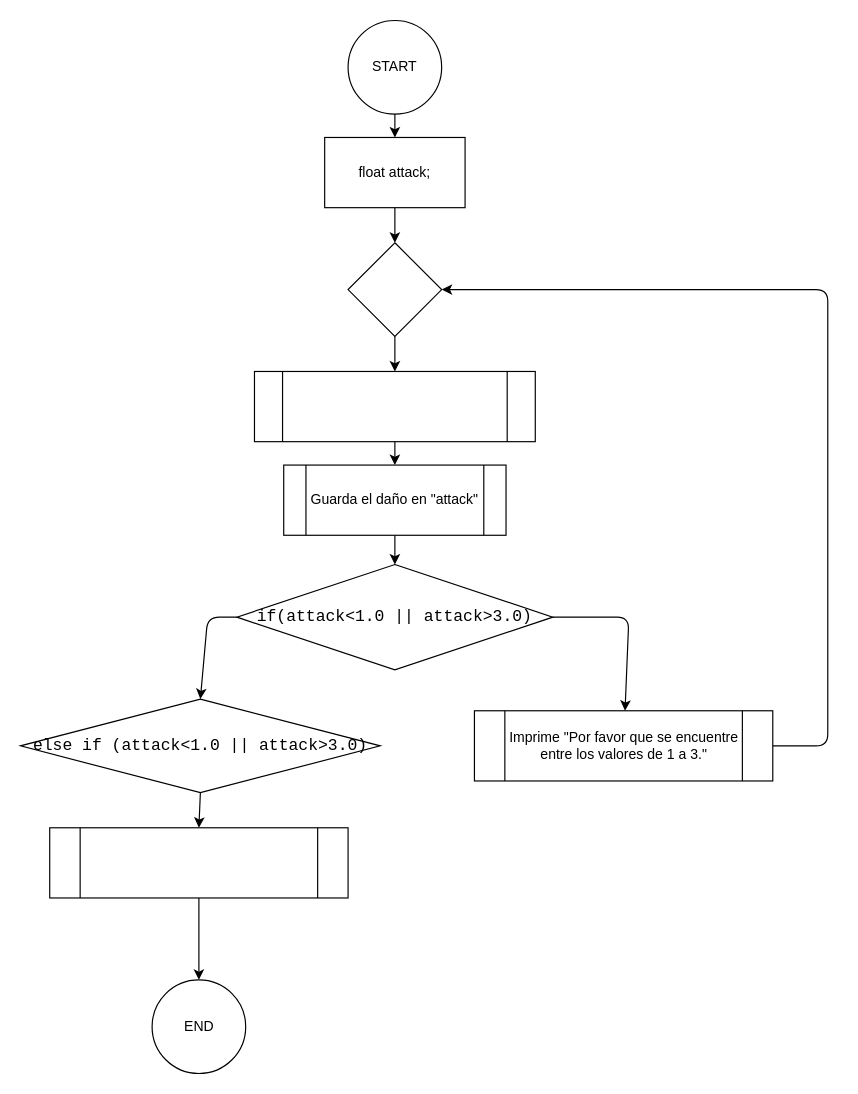
Some shapes in this 858 by 1094 pixel diagram are drawn without their labels. The shapes that lost their labels are listed below. From the top down, each one's centre as x and y in pixels, then its label:
pixel 394 289: while
pixel 394 406: Imprime "Ingrese el daño de su heroe, entre los valores de 1 a 3:
pixel 198 862: Imprime "El daño del heroe es de: "
